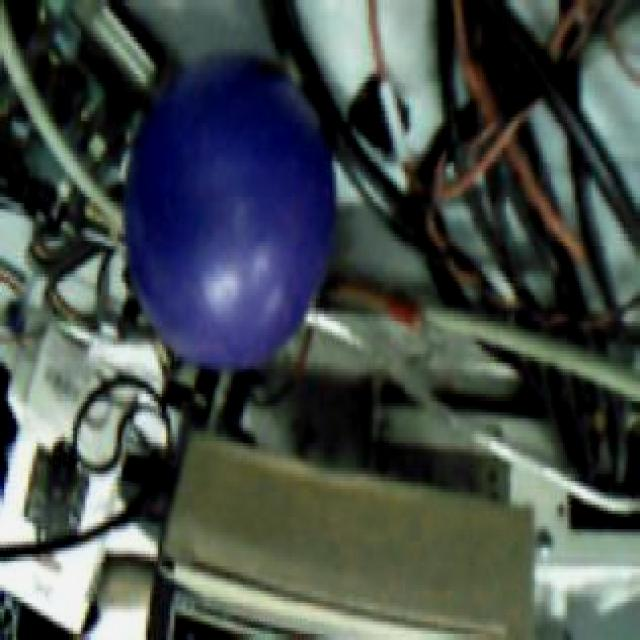BallPurple: (122, 48, 337, 373)
